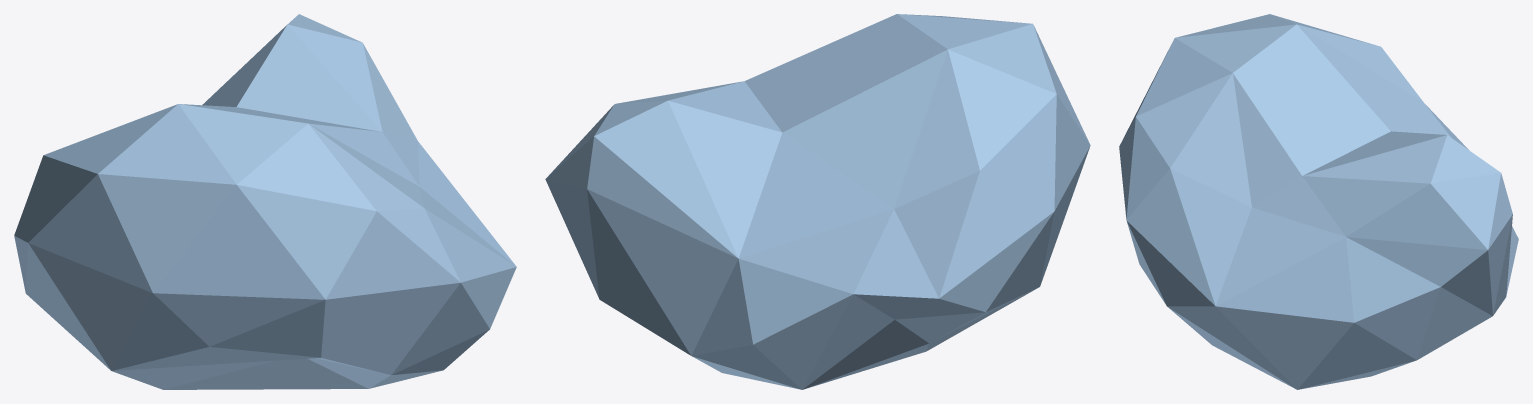
File: Cloud0.fbx
3 renders of one model, left to right at view 1: azimuth 30°, elevation 25°; view 2: azimuth 150°, elevation 25°; view 3: azimuth 270°, elevation 25°, orthographic. The views are drawn at different scales.
Visible parts, largest first — view 1: Cloud0; view 2: Cloud0; view 3: Cloud0.
Boxes of the visible parts, x1,y1,x2,y2 form: Cloud0: [14, 14, 516, 389]; Cloud0: [545, 14, 1090, 389]; Cloud0: [1119, 14, 1518, 389].
Size of the model in its own units: 185 by 125 by 172.
